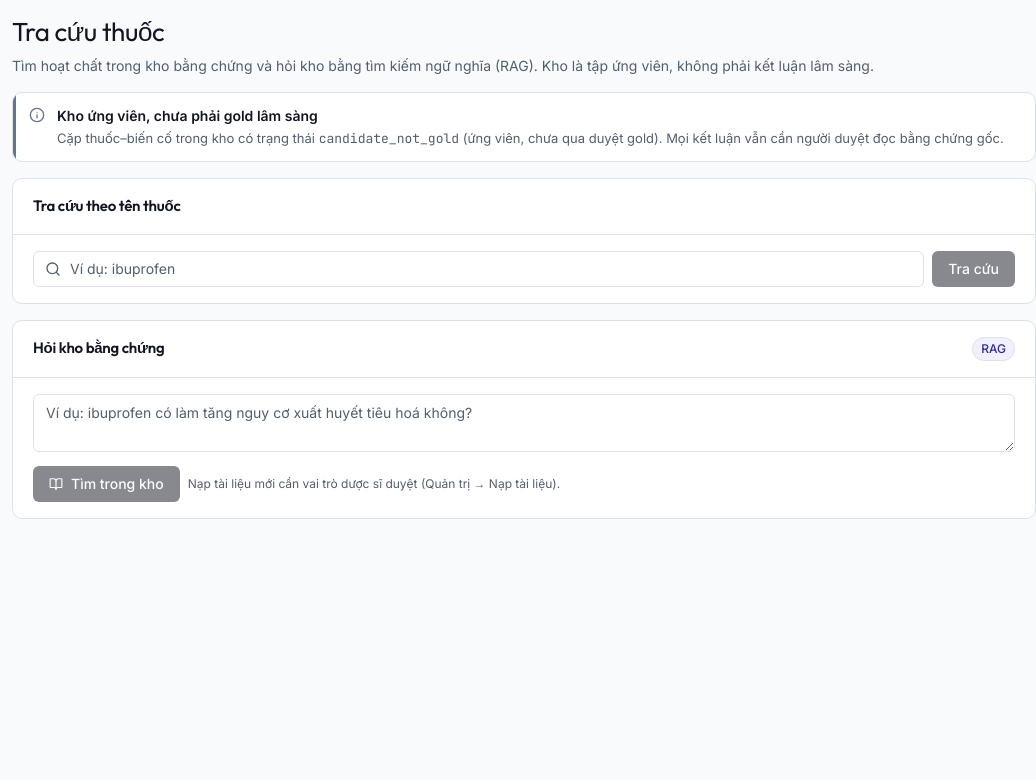
/app/drugs — tra cứu thuốc › không tra được kho thì hiện thông báo lỗi tiếng Việt
In the field named "Tên thuốc cần tra cứu": (479, 269) [33,251,924,287], type "ibuprofen"
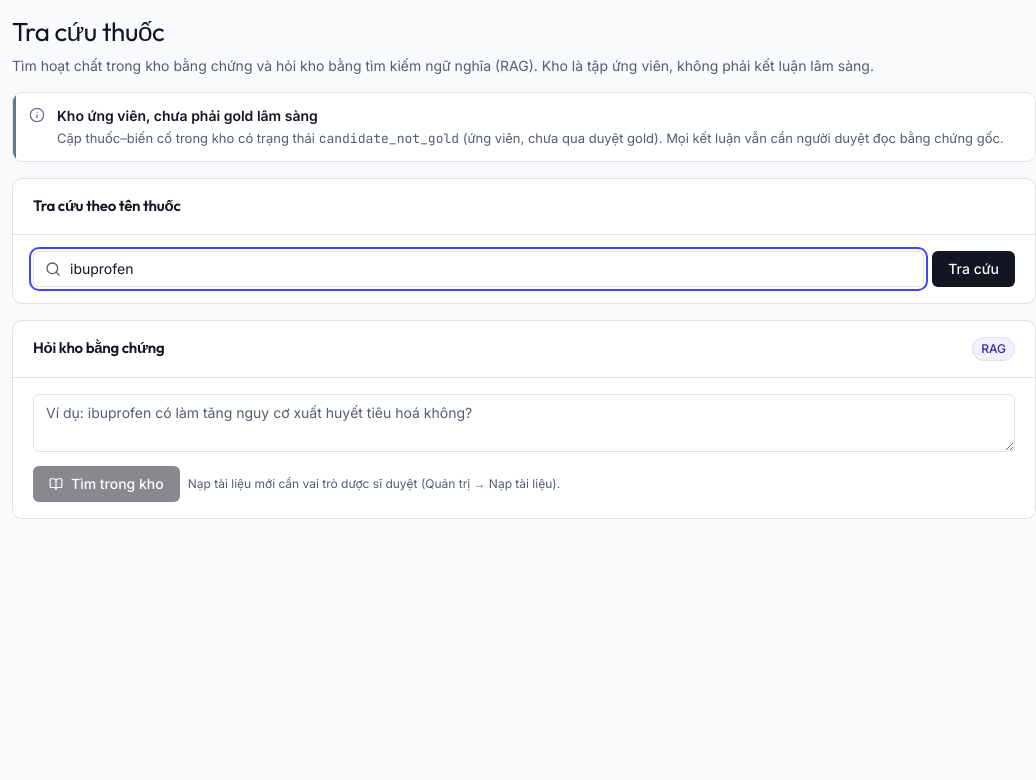
Click the button "Tra cứu": (974, 269) [932,251,1015,287]
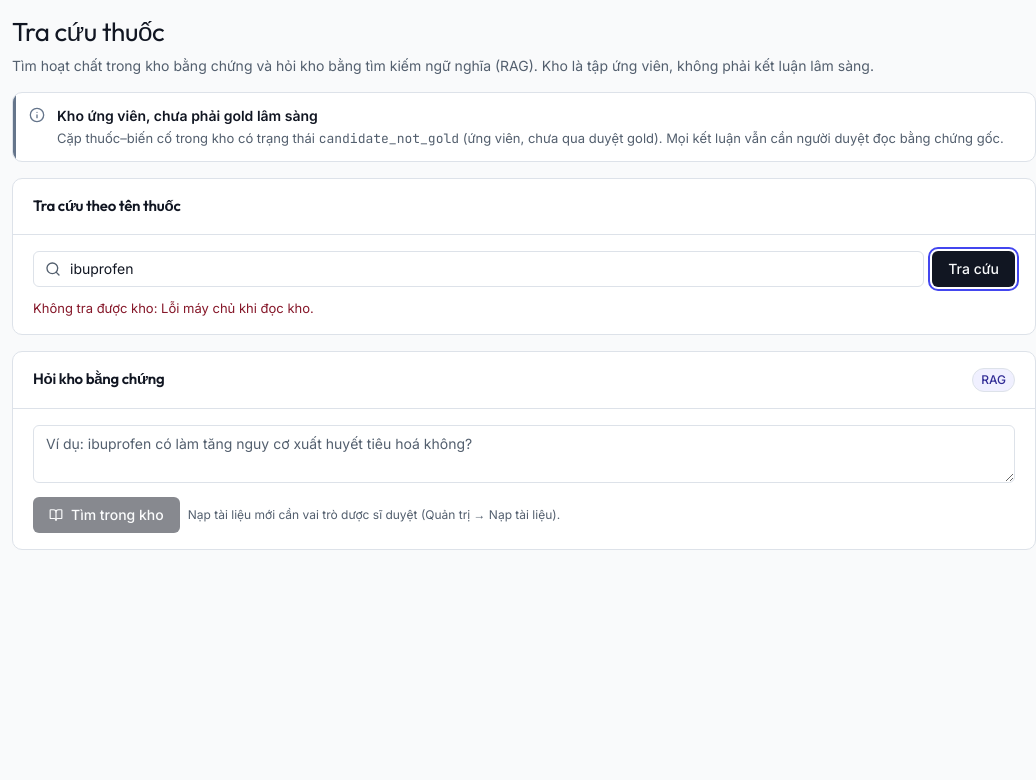
Expected: the text "Không tra được kho: Lỗi máy chủ khi đọc kho." is shown, [33,300,314,316]
